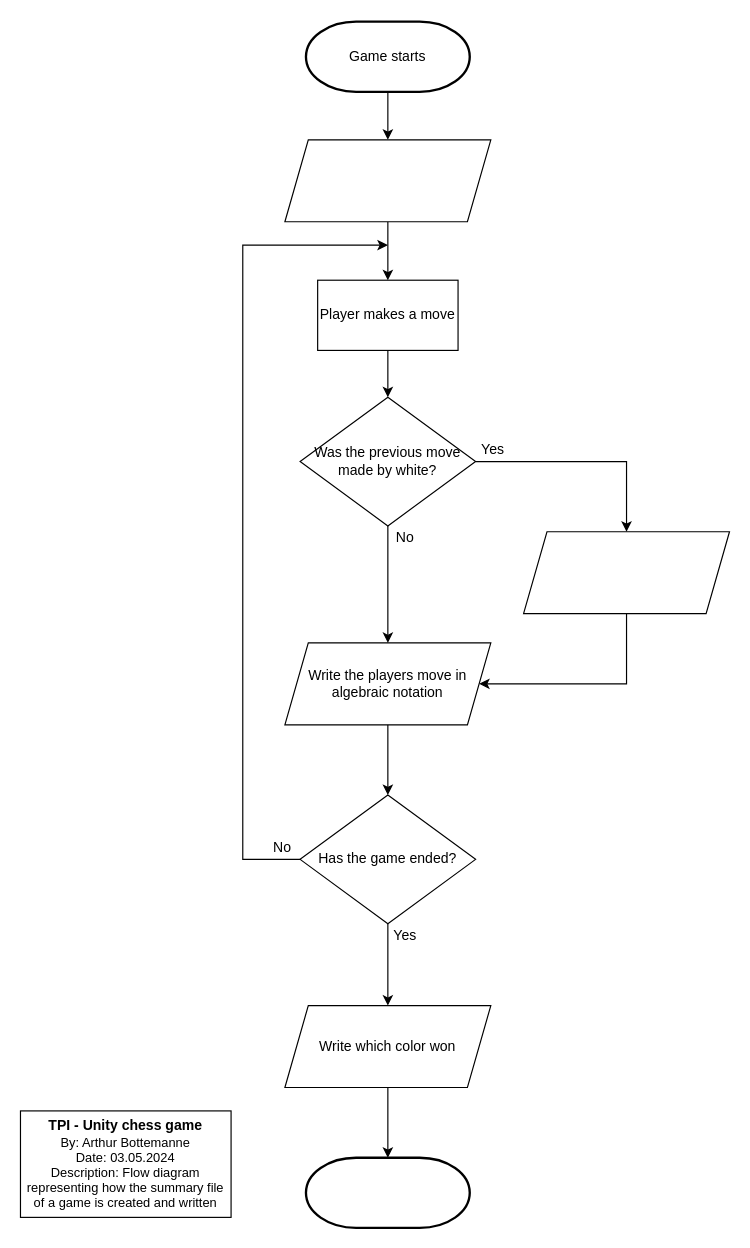
The diagram is 750 pixels wide and 1248 high, and some of its shapes have lost their labels. Here are the shapes that lost their labels. From the top down, the centre of each, then its label:
point 387,180: Create the summary file
point 625,572: Write the current turn it is in the summary file
point 387,1192: End process
